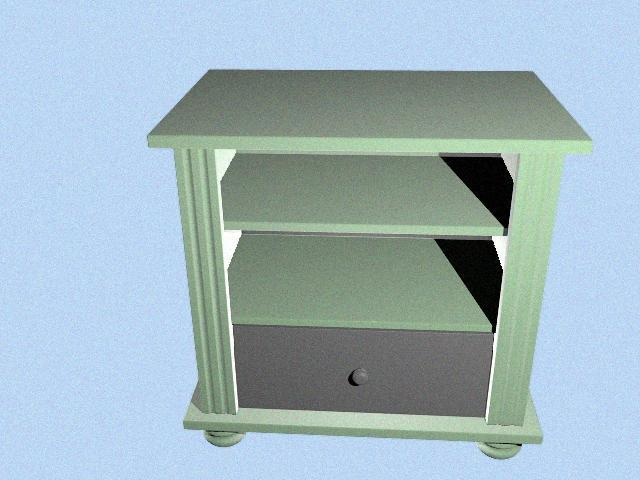cabinet_door: (233, 330, 491, 412)
handle: (345, 363, 376, 391)
